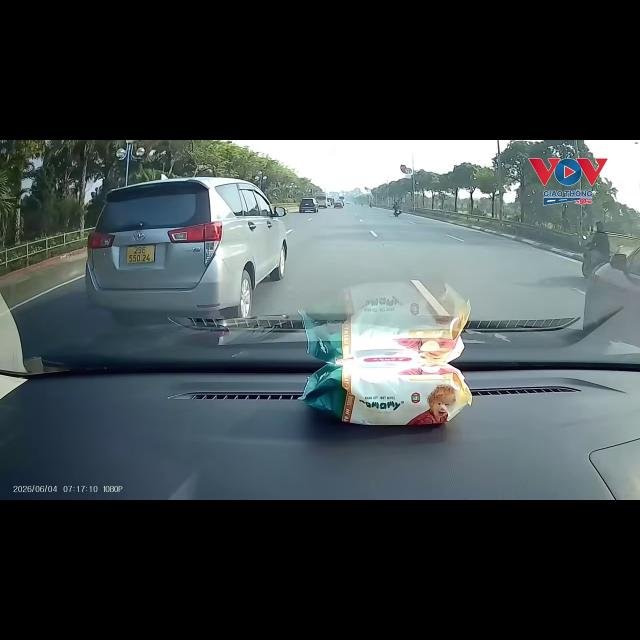car: (85, 177, 287, 323), (584, 233, 639, 343), (299, 198, 318, 212), (334, 200, 343, 208)
motorcycle: (582, 245, 609, 278), (582, 249, 608, 278), (394, 210, 402, 218), (369, 204, 373, 208)
